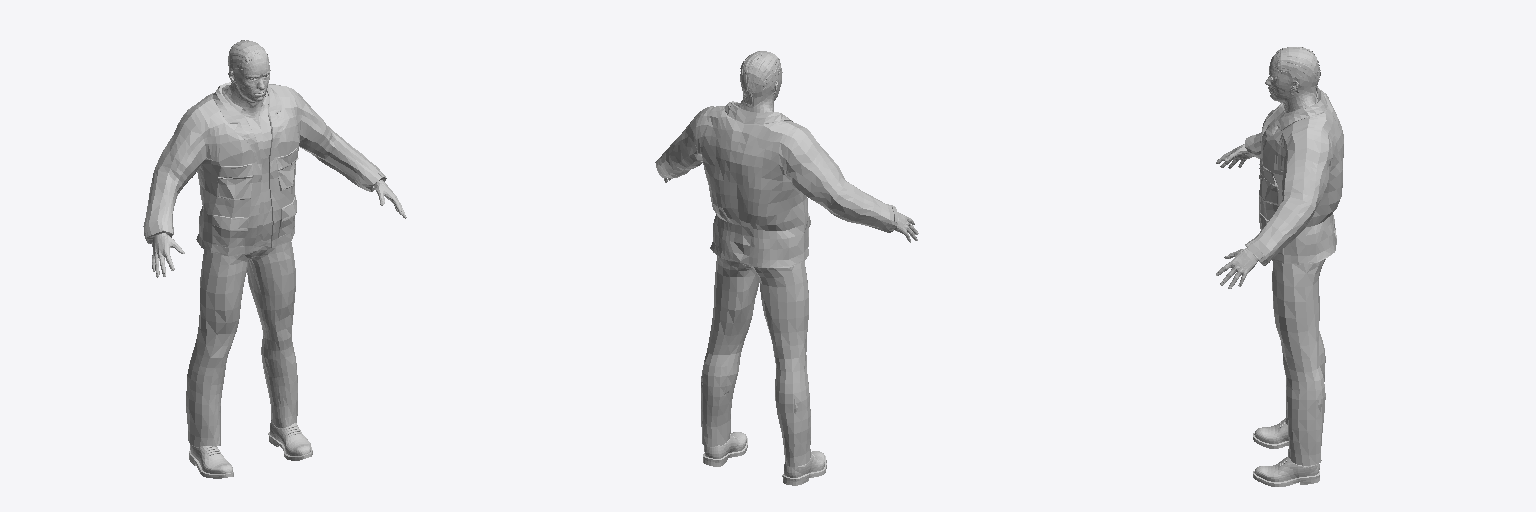
3 views of the same model, side by side, from view 1: azimuth 30°, elevation 25°; view 2: azimuth 150°, elevation 25°; view 3: azimuth 270°, elevation 25° (orthographic).
Visible parts, largest first — view 1: Ml1:Male_casualsuit05, Ml1:Body, Ml1:Shoes03, Ml1:Short04; view 2: Ml1:Male_casualsuit05, Ml1:Short04, Ml1:Shoes03, Ml1:Body; view 3: Ml1:Male_casualsuit05, Ml1:Body, Ml1:Shoes03, Ml1:Short04.
Part boxes in pixels (x1,y1,x2,y2): Ml1:Male_casualsuit05: (143, 82, 386, 446); Ml1:Body: (152, 61, 406, 277); Ml1:Shoes03: (189, 420, 312, 478); Ml1:Short04: (228, 40, 269, 85); Ml1:Male_casualsuit05: (655, 101, 898, 466); Ml1:Short04: (740, 51, 781, 107); Ml1:Shoes03: (703, 432, 826, 485); Ml1:Body: (664, 72, 918, 242); Ml1:Male_casualsuit05: (1245, 87, 1343, 465); Ml1:Body: (1216, 59, 1316, 288); Ml1:Shoes03: (1253, 418, 1319, 486); Ml1:Short04: (1272, 47, 1320, 95).
Bounding box in the file's own units: 1.31 × 2.08 × 0.5843.